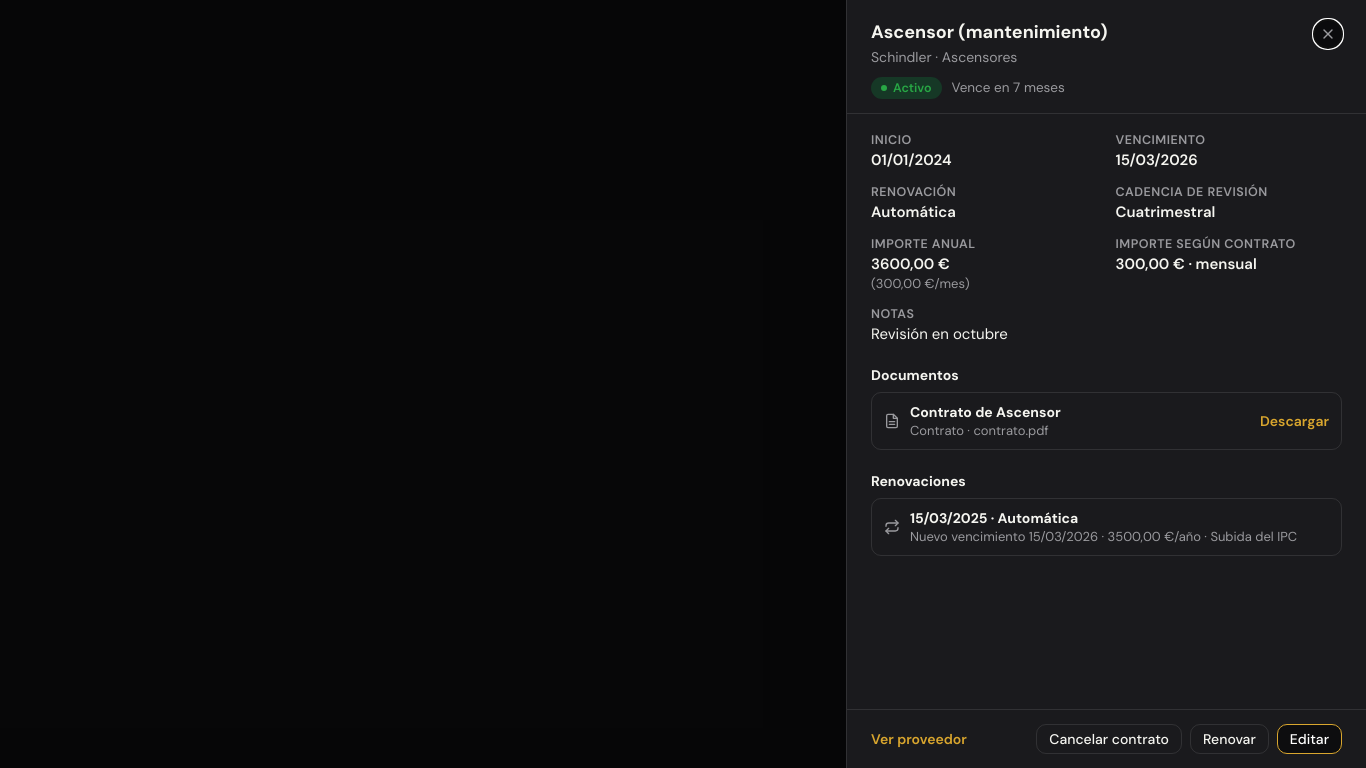
Test case: ContractDetailComponent › si falla la descarga avisa y no guarda nada
Click the button with class "list__action".
click(1294, 421)  # box top-left (1260, 412), bottom-right (1329, 430)
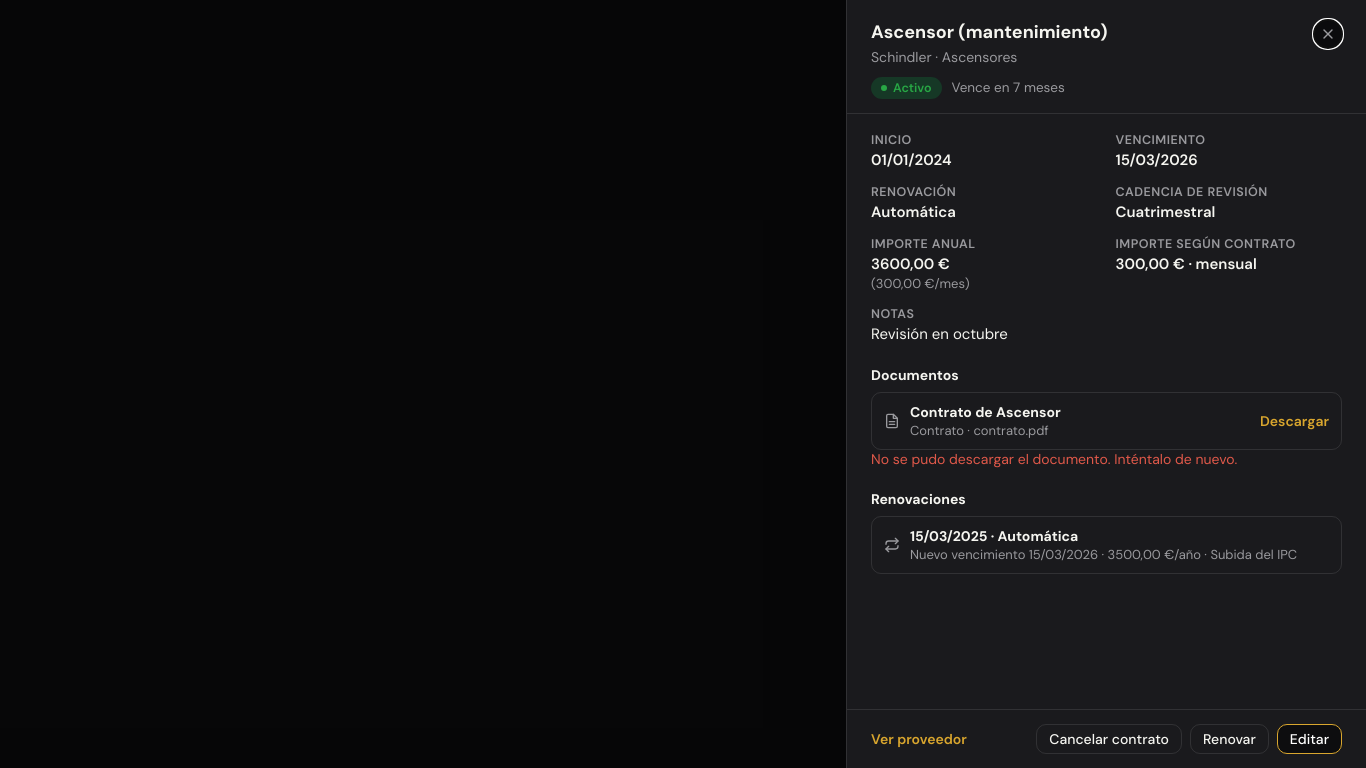
expect the message "No se pudo descargar el documento. Inténtalo de nuevo." is shown: met, box top-left (871, 450), bottom-right (1237, 468)
